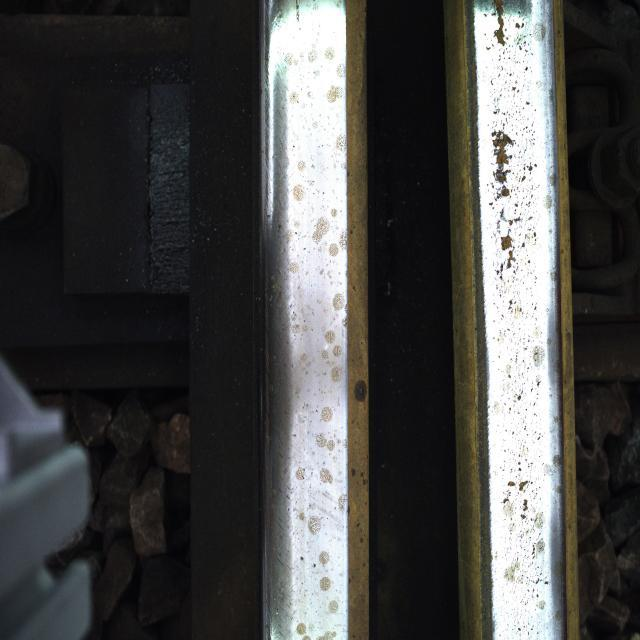scar: (278, 44, 342, 610), (483, 116, 538, 286), (478, 0, 514, 54)
